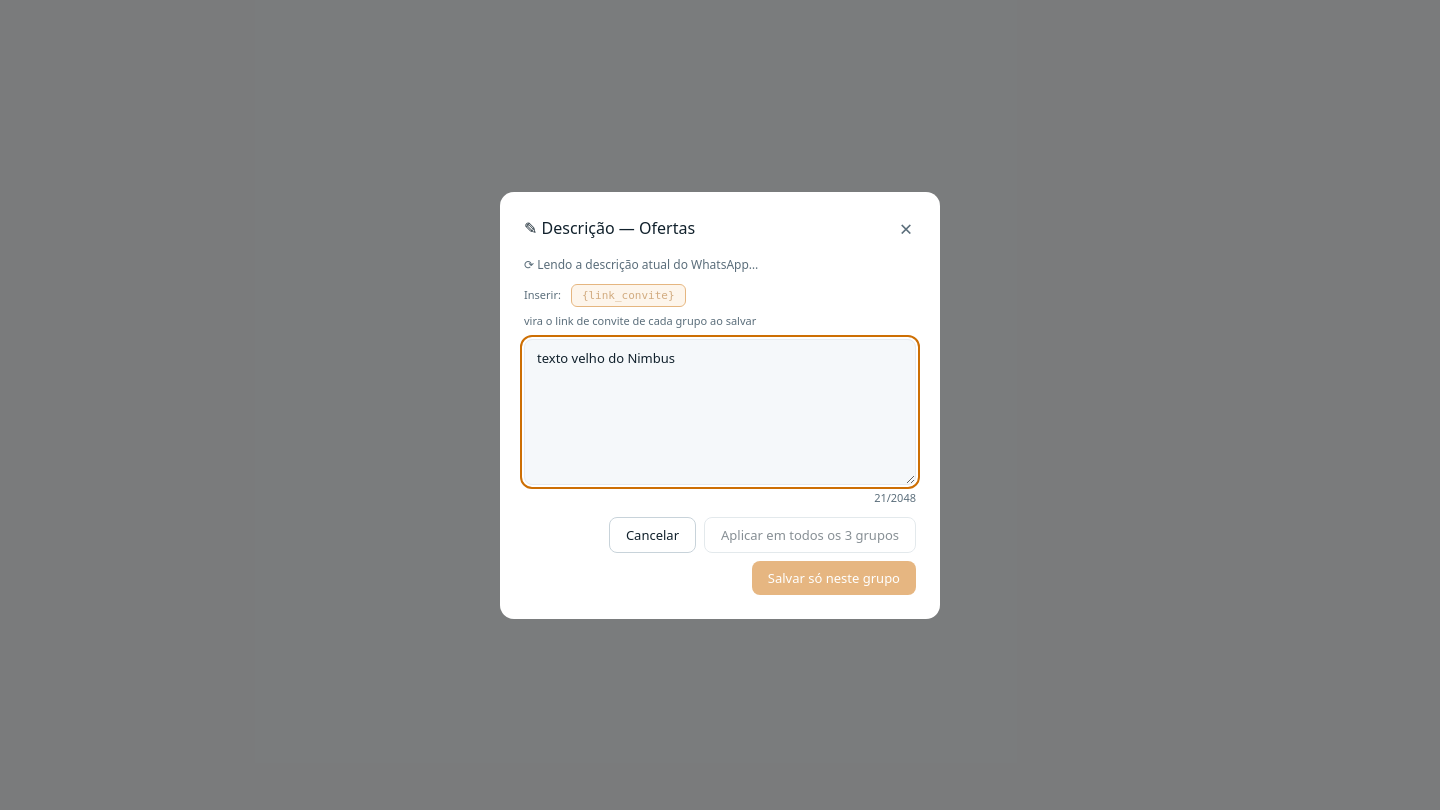
it: abrir › o que o usuário já digitou não é atropelado pela leitura
Replace the text in the text box named "Descrição do grupo" with "meu texto": (720, 412) [524,339,916,485]
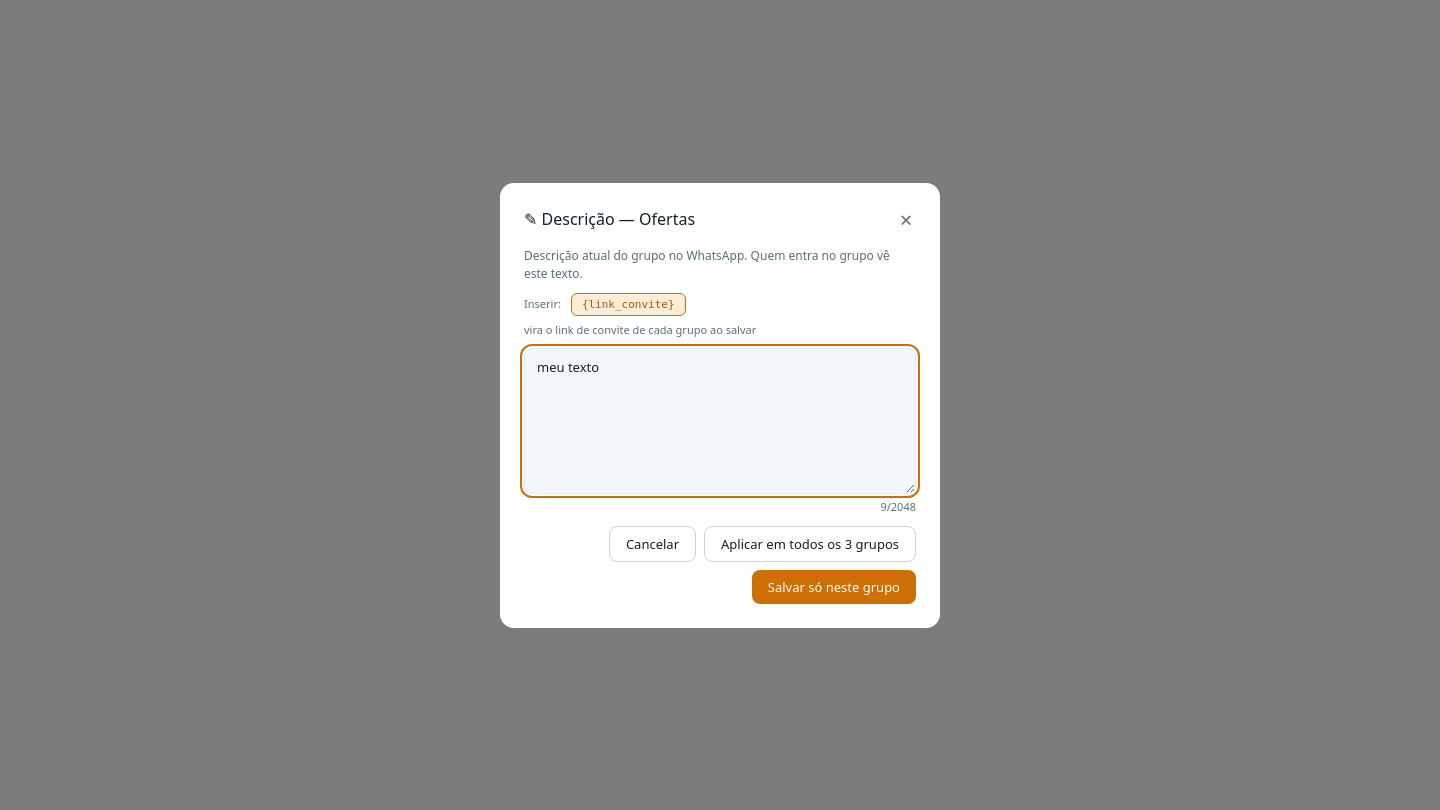
Check: the text "Descrição atual do grupo no WhatsApp" is shown, box [524,246,890,282]
